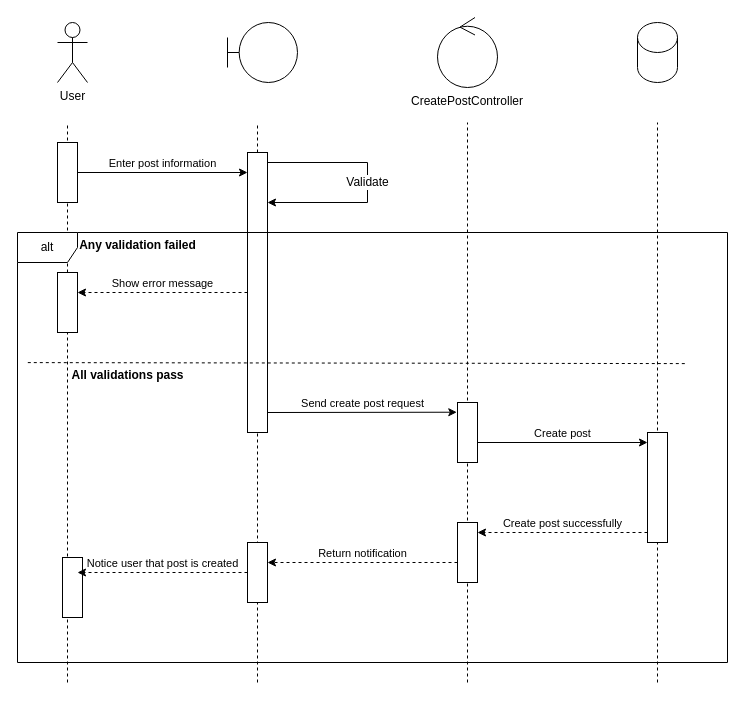
The diagram is 745 pixels wide and 701 high, and some of its shapes have lost their labels. The centre of each missing label's shape, as x and y in pixels:
"CreatePostForm" belongs at point (262, 52).
"Post Database" belongs at point (657, 52).
